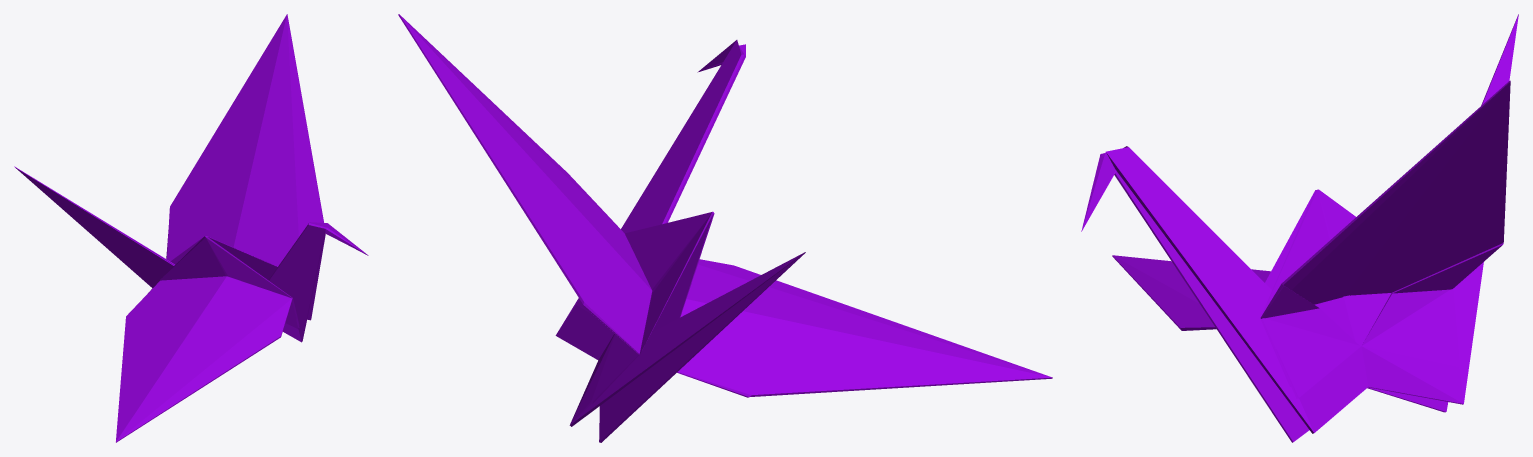
Rendered from glass-crane.glb.
3 views of the same model, side by side, from view 1: azimuth 30°, elevation 25°; view 2: azimuth 150°, elevation 25°; view 3: azimuth 270°, elevation 25° (orthographic). The views are drawn at different scales.
Visible parts, largest first — view 1: Object_3; view 2: Object_3; view 3: Object_3.
Part boxes in pixels (x1,y1,x2,y2): Object_3: [14, 14, 368, 442]; Object_3: [398, 14, 1052, 442]; Object_3: [1081, 14, 1518, 442].
Bounding box in the file's own units: 2.16 × 1.86 × 1.77.
